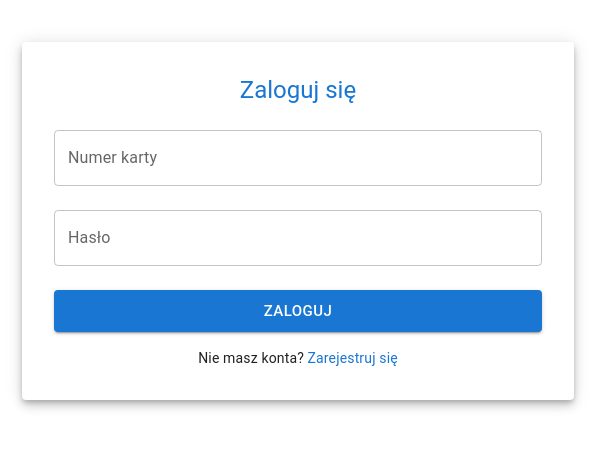
Test: Login Component › should validate form inputs before submission
The image size is (597, 450).
Click the button "Zaloguj". click: point(298, 311)
box: [54,290,542,332]
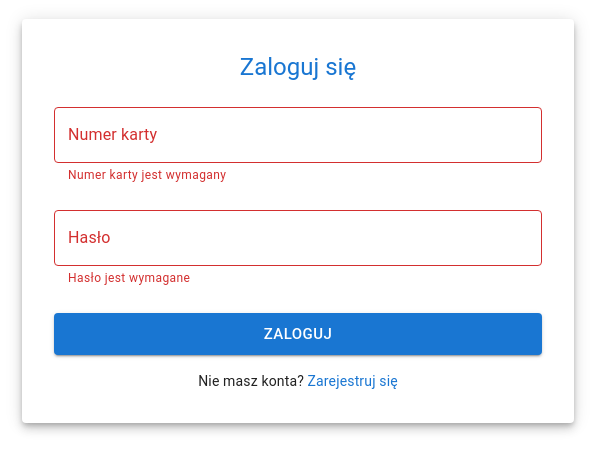
Expected: the text "Numer karty jest wymagany" is shown, [68,168,226,182]
Expected: the text "Hasło jest wymagane" is shown, [68,271,190,285]
